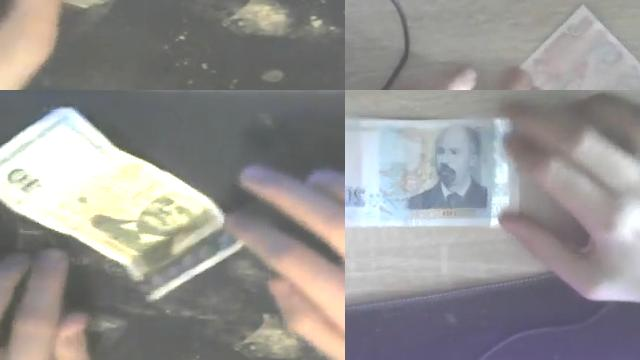10leva: (0, 162, 51, 202)
20leva: (345, 114, 520, 227)
5leva: (519, 4, 640, 90)
